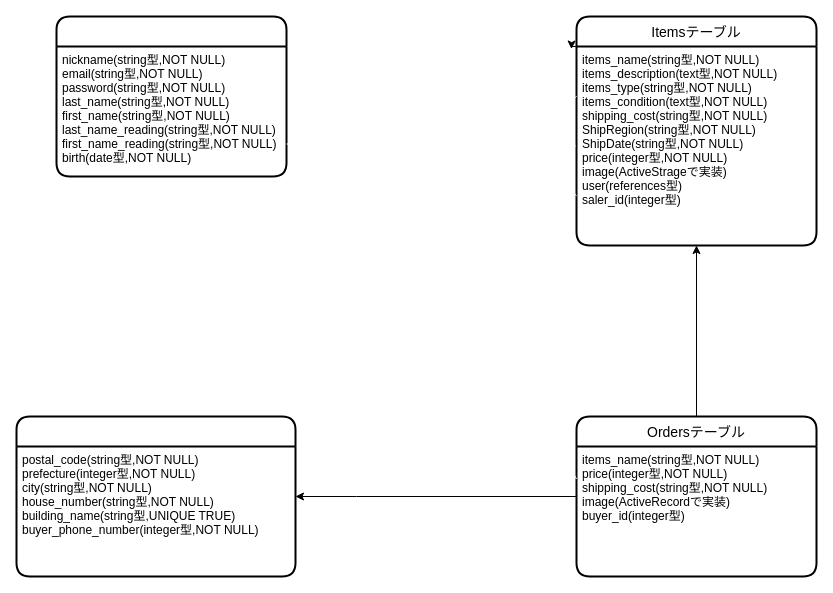
The diagram is 833 pixels wide and 593 high, and some of its shapes have lost their labels. The shapes that lost their labels are listed below. From the top down, each one's box as (x1, y1, x2, y2) in pixels, then its label:
(55, 15, 287, 177): Usersテーブル
(15, 415, 296, 577): Address_bookテーブル
